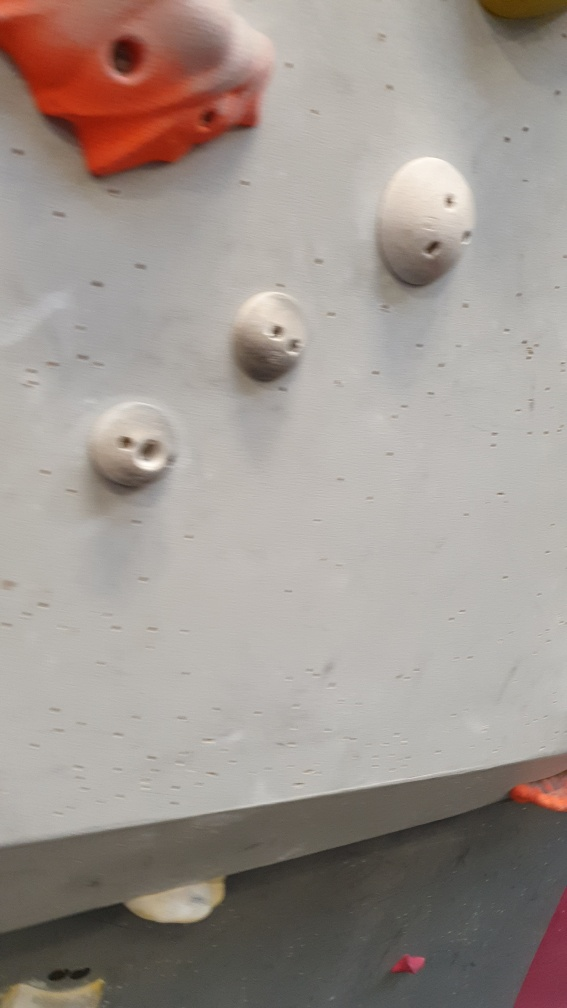Hand Start: (48, 962, 71, 986), (72, 964, 94, 982)
Jug: (1, 1, 280, 188), (504, 761, 567, 825)
Sloper: (369, 153, 478, 295), (88, 398, 178, 494), (225, 288, 312, 382)
